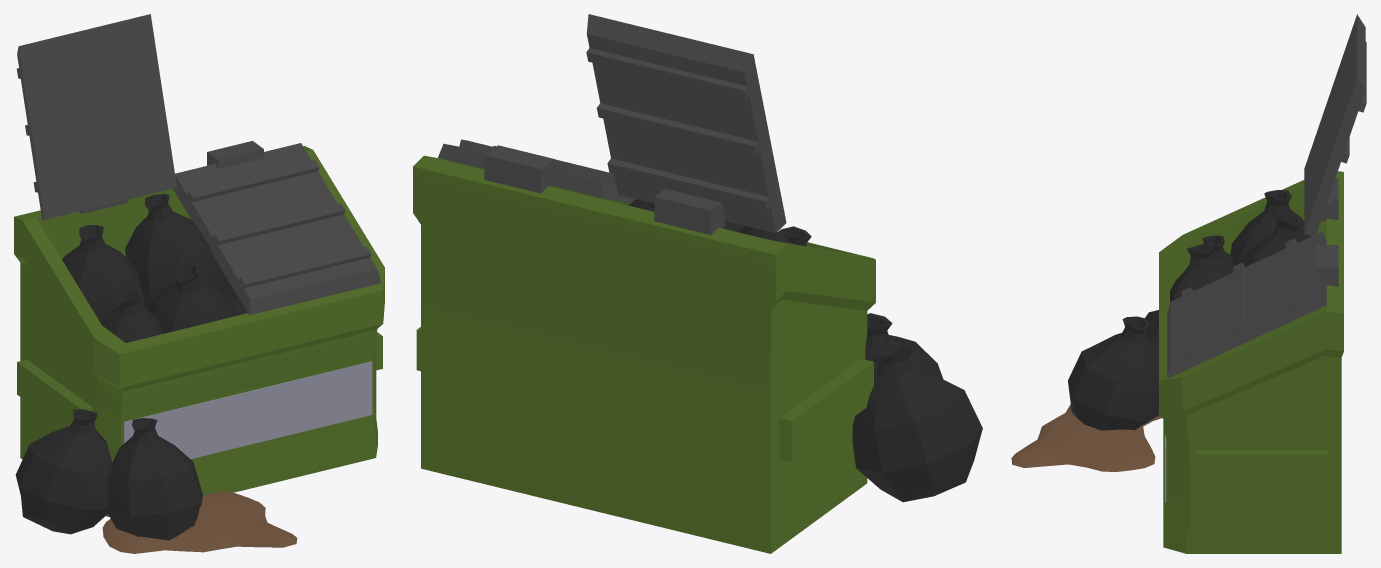
File: trash_container.glb
3 renders of one model, left to right at view 1: azimuth 30°, elevation 25°; view 2: azimuth 150°, elevation 25°; view 3: azimuth 270°, elevation 25°, orthographic. The views are drawn at different scales.
Visible parts, largest first — view 1: TrashContainer_Open; view 2: TrashContainer_Open; view 3: TrashContainer_Open.
Boxes of the visible parts, <box> form: TrashContainer_Open: <box>14,14,384,553</box>; TrashContainer_Open: <box>413,14,982,553</box>; TrashContainer_Open: <box>1011,14,1366,553</box>.
Size of the model in its own units: 3.16 by 3.34 by 2.63.
1 material, 1 textured.
